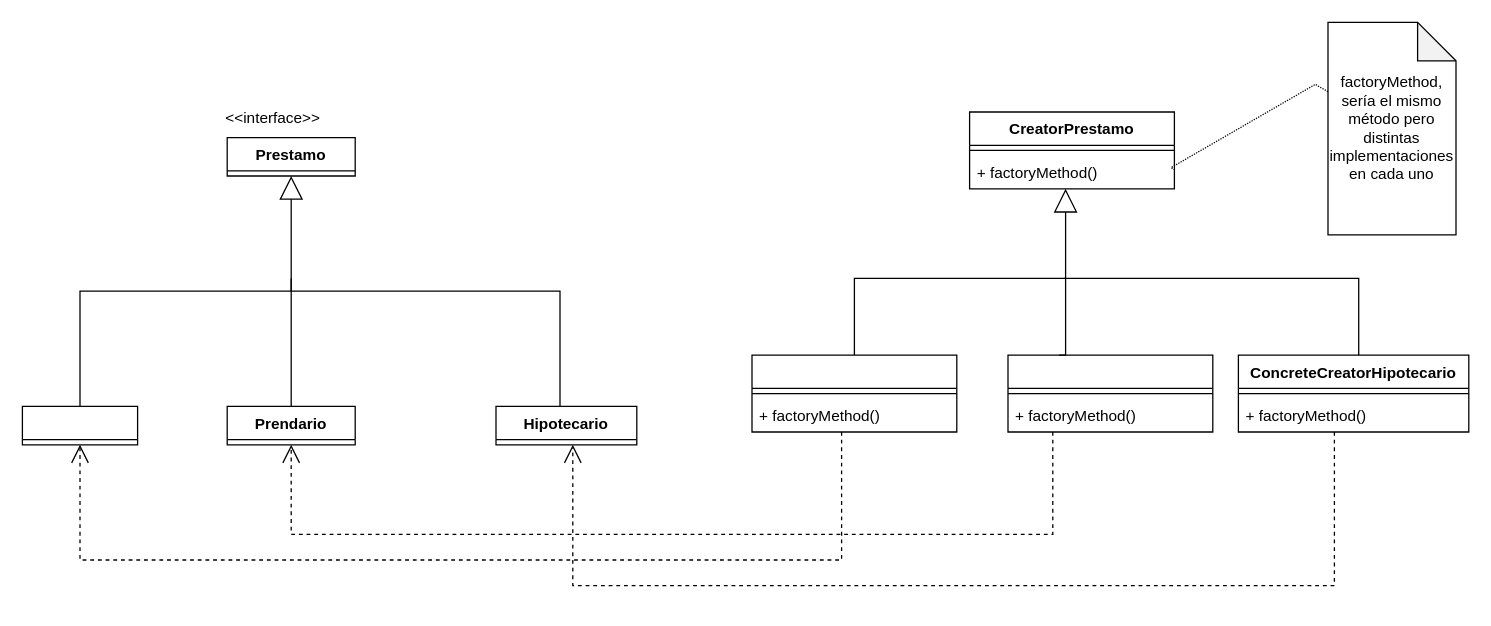
Image size: 1491x626. Some labels were removed from this diagram. The box of each missing label's shape, as (x1, y1, x2, y2) in pixels:
ConcreteCreatorPersonal: (751, 354, 957, 432)
ConcreteCreatorPrendario: (1007, 354, 1213, 432)
Personal: (21, 405, 138, 445)
